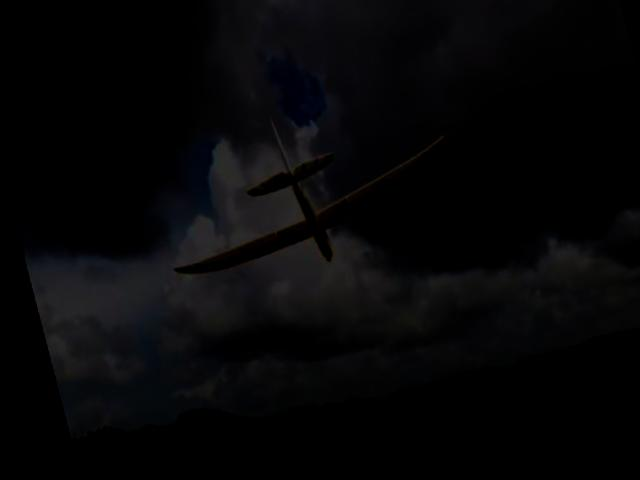iha: (131, 80, 472, 309)
